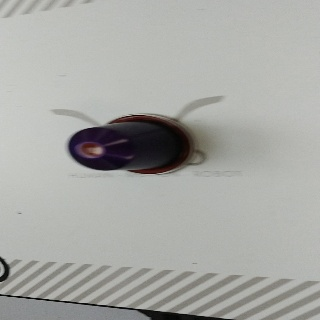capsule_11: (66, 113, 195, 176)
